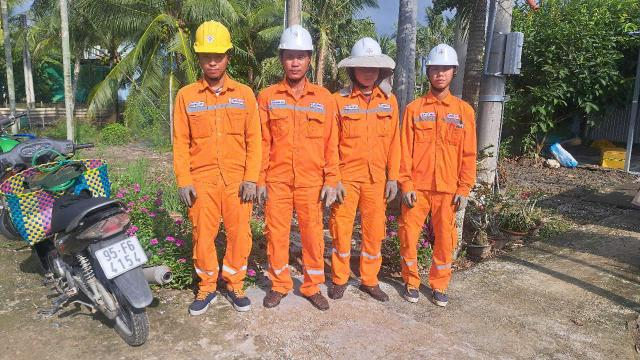gloves: (174, 178, 202, 210), (446, 185, 470, 214), (382, 170, 398, 207), (235, 174, 254, 202), (318, 180, 337, 205), (253, 183, 272, 207), (399, 184, 416, 209), (334, 176, 348, 203)
helmet: (186, 8, 240, 61), (340, 34, 395, 77), (280, 22, 322, 59), (420, 40, 462, 71)
shoes: (178, 282, 222, 312), (354, 281, 392, 310), (300, 282, 330, 313), (428, 278, 455, 307), (222, 287, 252, 312), (260, 276, 282, 308), (327, 274, 349, 306), (397, 282, 422, 306)
